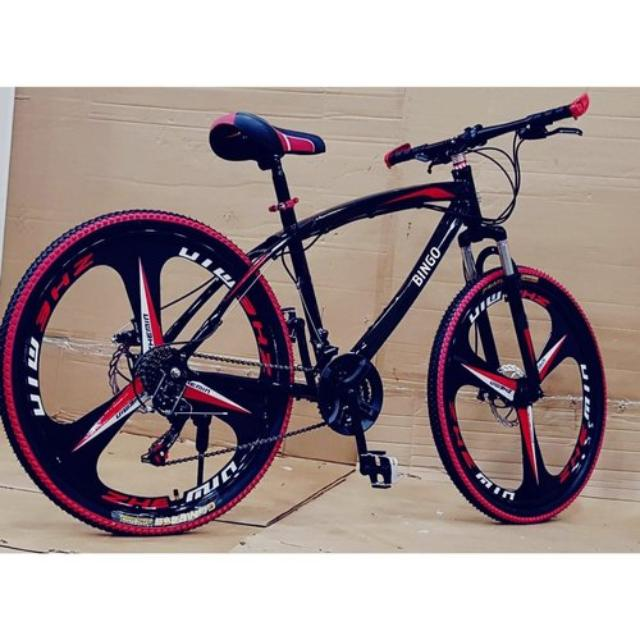obstacle: (3, 98, 640, 550), (639, 98, 640, 550)
